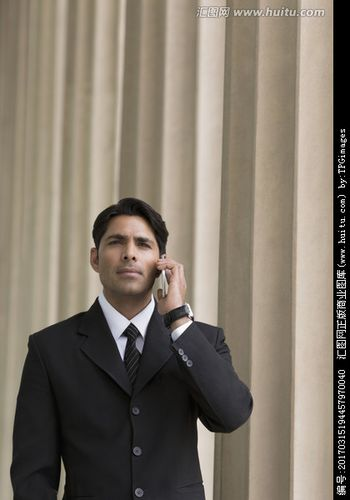calling: (153, 250, 189, 313)
